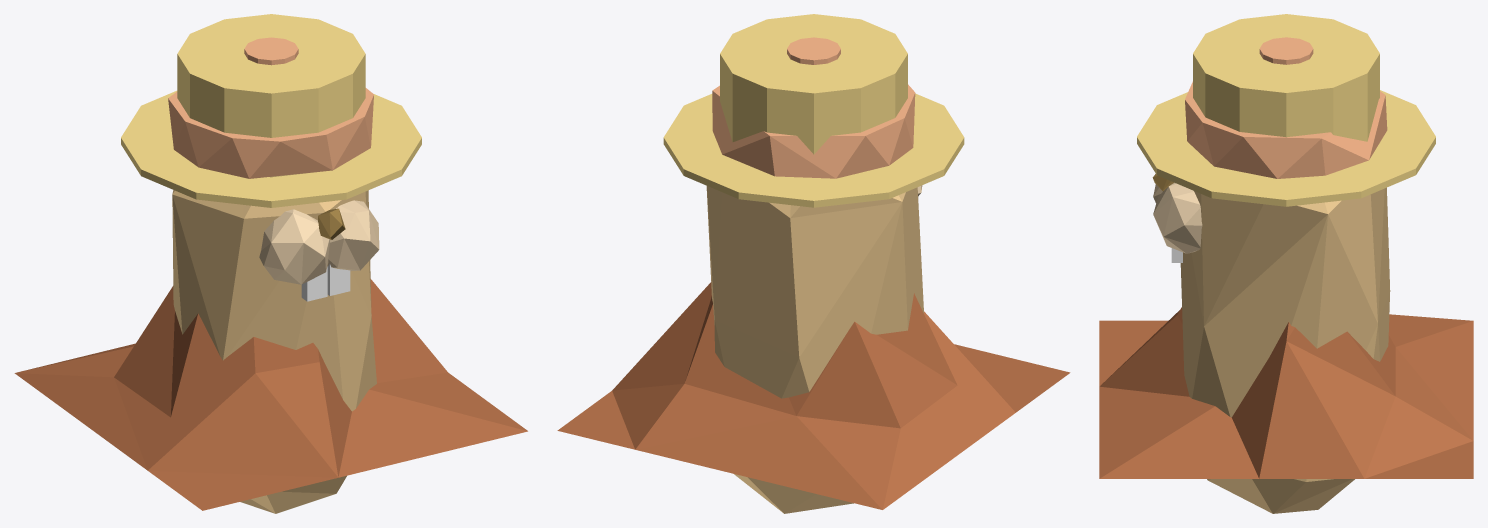
The model's file is mouse.glb.
The picture shows the model from 3 angles, left to right: view 1: azimuth 30°, elevation 25°; view 2: azimuth 150°, elevation 25°; view 3: azimuth 270°, elevation 25°; orthographic projection.
Visible parts, largest first — view 1: Landscape, body, Cylinder.003, Cylinder.1, Cylinder.2, Sphere.014, Sphere.1_1, Cylinder.2_1, nose, Cube.057, Cube.056; view 2: Landscape, body, Cylinder.003, Cylinder.1, Cylinder.2, Cylinder.2_1; view 3: Landscape, body, Cylinder.003, Cylinder.1, Cylinder.2, Sphere.1_1, Cylinder.2_1.
Part boxes in pixels (x1=…): Landscape: x1=14, y1=279, x2=527, y2=510; body: x1=172, y1=190, x2=376, y2=513; Cylinder.003: x1=177, y1=14, x2=365, y2=177; Cylinder.1: x1=121, y1=90, x2=421, y2=207; Cylinder.2: x1=168, y1=88, x2=373, y2=178; Sphere.014: x1=259, y1=209, x2=330, y2=284; Sphere.1_1: x1=327, y1=200, x2=379, y2=271; Cylinder.2_1: x1=244, y1=37, x2=298, y2=65; nose: x1=318, y1=208, x2=345, y2=239; Cube.057: x1=327, y1=264, x2=350, y2=295; Cube.056: x1=301, y1=266, x2=327, y2=301; Landscape: x1=557, y1=282, x2=1070, y2=509; body: x1=706, y1=186, x2=923, y2=513; Cylinder.003: x1=720, y1=14, x2=907, y2=154; Cylinder.1: x1=663, y1=93, x2=964, y2=207; Cylinder.2: x1=712, y1=84, x2=915, y2=178; Cylinder.2_1: x1=787, y1=37, x2=840, y2=64; Landscape: x1=1099, y1=307, x2=1473, y2=478; body: x1=1180, y1=187, x2=1390, y2=513; Cylinder.003: x1=1193, y1=14, x2=1379, y2=141; Cylinder.1: x1=1137, y1=90, x2=1435, y2=206; Cylinder.2: x1=1185, y1=81, x2=1387, y2=178; Sphere.1_1: x1=1153, y1=182, x2=1202, y2=253; Cylinder.2_1: x1=1259, y1=37, x2=1313, y2=64.
Size of the model in its own units: 2.88 by 3.89 by 2.88.
